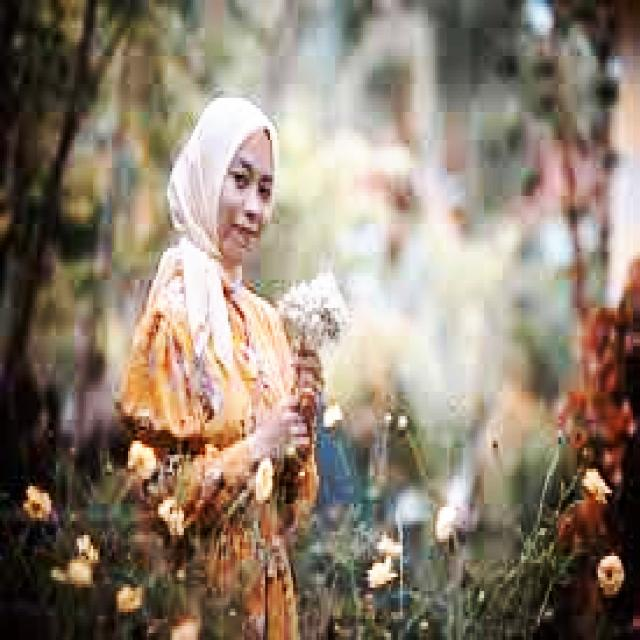TOPI: (163, 94, 279, 259)
